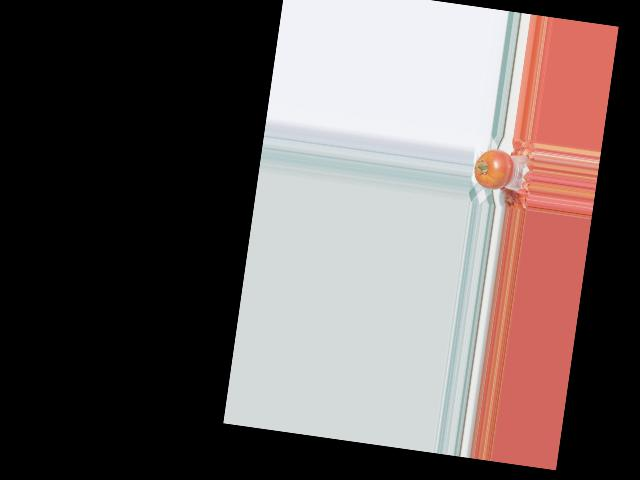tomato: (471, 145, 516, 192)
